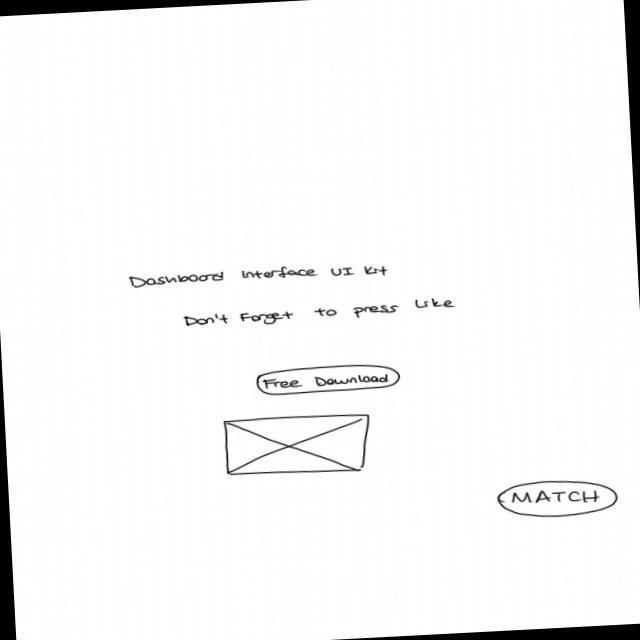button: (495, 477, 620, 522), (256, 362, 403, 398)
image: (223, 412, 374, 481)
label: (183, 295, 458, 331), (127, 260, 392, 291)
